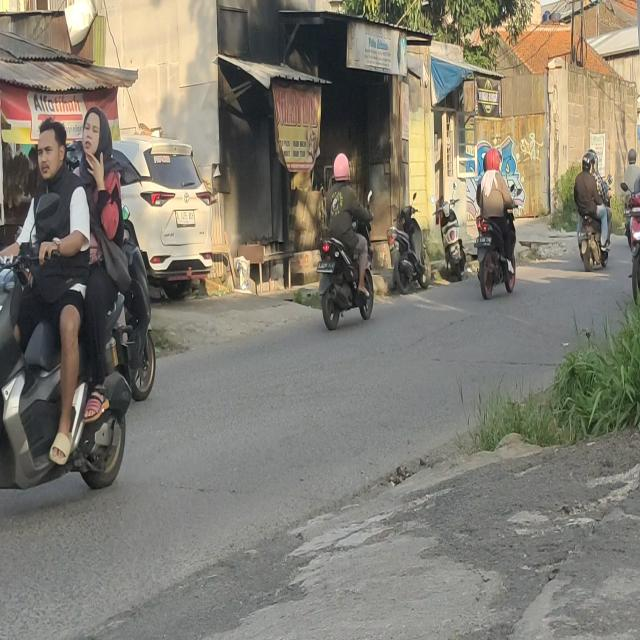helmet: (332, 152, 350, 182), (485, 147, 500, 173), (582, 152, 594, 174), (589, 149, 598, 174), (628, 148, 637, 166)
no-helmet: (82, 106, 111, 166), (40, 120, 66, 180)
